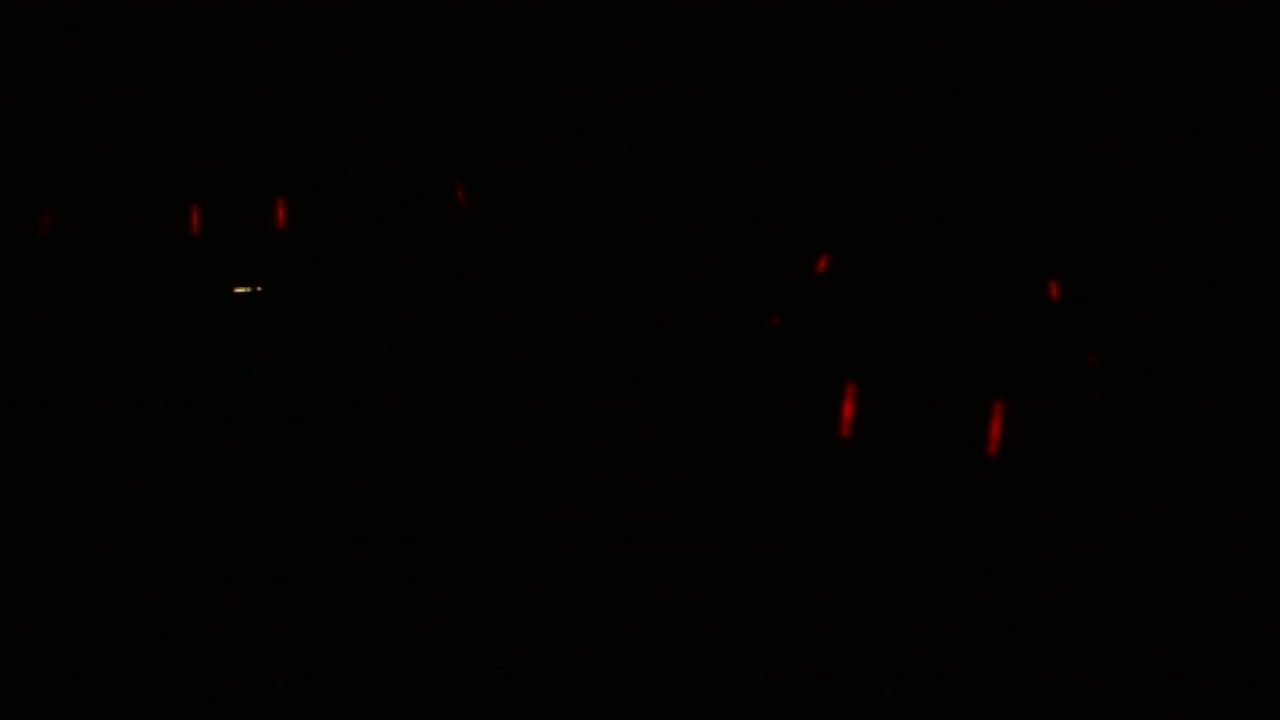pair1: (178, 184, 301, 251)
pair2: (829, 375, 1016, 465)
